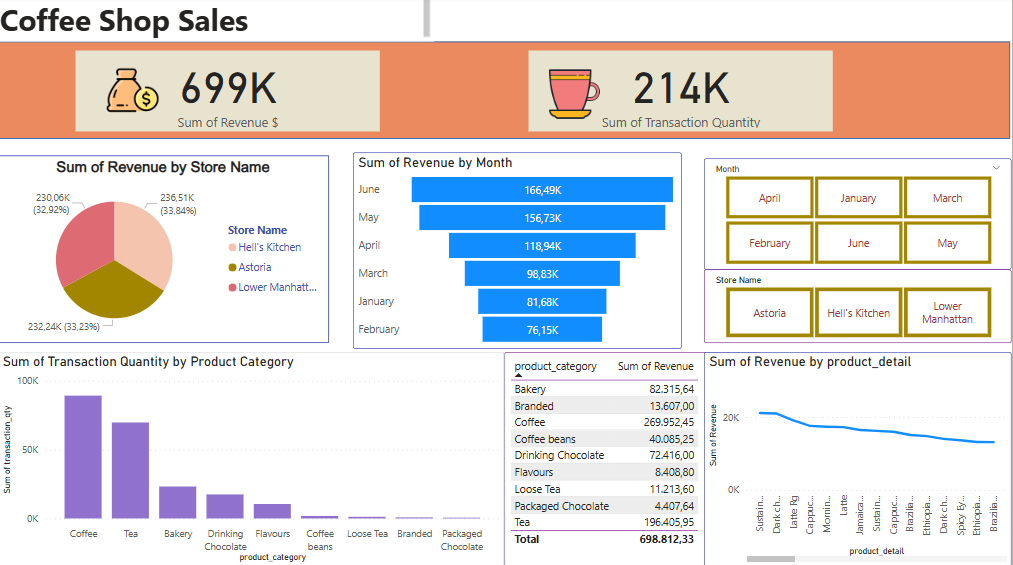

What the dashboard file says about the page in this screenshot:
{"tool":"powerbi","page":{"name":"Page 1","canvas":[1280,720],"ordinal":0},"visuals":[{"type":"pieChart","fields":{"Category":["Coffe Shop Sales Data.store_location"],"Y":["Sum(Coffe Shop Sales Data.sales_per_transaction)"]},"box":[0,202.2,419.5,236.2],"z":0},{"type":"tableEx","fields":{"Values":["Coffe Shop Sales Data.product_category","Sum(Coffe Shop Sales Data.Revenue)"]},"box":[640.6,449.8,323.2,270.2],"z":1000},{"type":"columnChart","title":"Sum of Transaction Quantity by Product Category","fields":{"Category":["Coffe Shop Sales Data.product_category"],"Y":["Sum(Coffe Shop Sales Data.transaction_qty)"]},"box":[1.9,449.8,638.7,270.2],"z":2000},{"type":"slicer","fields":{"Values":["Coffe Shop Sales Data.month"]},"box":[892,206,387.4,139.8],"z":3000},{"type":"shape","box":[0,58.6,1279.4,122.8],"z":5000},{"type":"textbox","box":[0,0,551.8,58.6],"z":6000},{"type":"card","fields":{"Values":["Sum(Coffe Shop Sales Data.Revenue)"]},"box":[100.2,69.9,383.6,102],"z":7000},{"type":"card","fields":{"Values":["Sum(Coffe Shop Sales Data.transaction_qty)"]},"box":[670.9,69.9,383.6,102],"z":8000},{"type":"slicer","fields":{"Values":["Coffe Shop Sales Data.Store Name"]},"box":[892,345.8,387.4,92.6],"z":9000},{"type":"funnel","title":"Sum of Revenue by Month","fields":{"Category":["Coffe Shop Sales Data.month"],"Y":["Sum(Coffe Shop Sales Data.Revenue)"]},"box":[449.8,198.4,413.9,247.6],"z":10000},{"type":"lineChart","fields":{"Category":["Coffe Shop Sales Data.product_detail"],"Y":["Sum(Coffe Shop Sales Data.Revenue)"]},"box":[892,449.8,387.4,270.2],"z":10001},{"type":"image","box":[134.2,81.3,75.6,77.5],"z":10002},{"type":"image","box":[670.9,64.3,107.7,117.2],"z":10003}]}

Visuals, with their boxes in screenshot pixels (x1, y1, x2, y2), scaled from the page's 1280x720 canvas onto the 1013x565 screenshot:
pieChart - Coffe Shop Sales Data.store_location x Sum(Coffe Shop Sales Data.sales_per_transaction): 0 159 332 344
tableEx - Coffe Shop Sales Data.product_category x Sum(Coffe Shop Sales Data.Revenue): 507 353 763 564
"Sum of Transaction Quantity by Product Category" columnChart: 2 353 507 564
slicer - Coffe Shop Sales Data.month: 706 162 1012 271
shape: 0 46 1012 142
textbox: 0 0 437 46
card - Sum(Coffe Shop Sales Data.Revenue): 79 55 383 135
card - Sum(Coffe Shop Sales Data.transaction_qty): 531 55 835 135
slicer - Coffe Shop Sales Data.Store Name: 706 271 1012 344
"Sum of Revenue by Month" funnel: 356 156 684 350
lineChart - Coffe Shop Sales Data.product_detail x Sum(Coffe Shop Sales Data.Revenue): 706 353 1012 564
image: 106 64 166 125
image: 531 50 616 142
